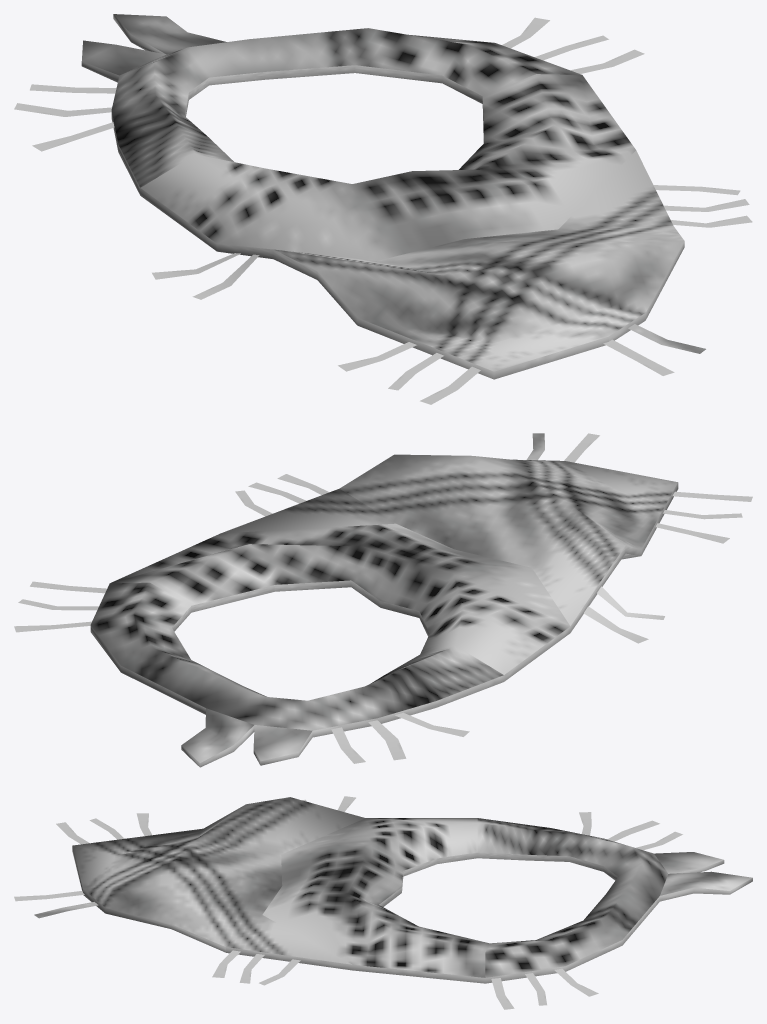
Rendered from WorldObject_Shemagh.fbx.
3 renders of one model, top to bottom at view 1: azimuth 30°, elevation 25°; view 2: azimuth 150°, elevation 25°; view 3: azimuth 270°, elevation 25°, orthographic. The views are drawn at different scales.
Parts seen in each view (by area): view 1: Bob_Shemagh_Ground; view 2: Bob_Shemagh_Ground; view 3: Bob_Shemagh_Ground.
Part boxes in pixels (bbox=[...]): Bob_Shemagh_Ground: bbox=[14, 14, 752, 404]; Bob_Shemagh_Ground: bbox=[14, 433, 752, 767]; Bob_Shemagh_Ground: bbox=[14, 796, 752, 1009].
Bounding box in the file's own units: 0.6252 × 0.0388 × 0.9131.
